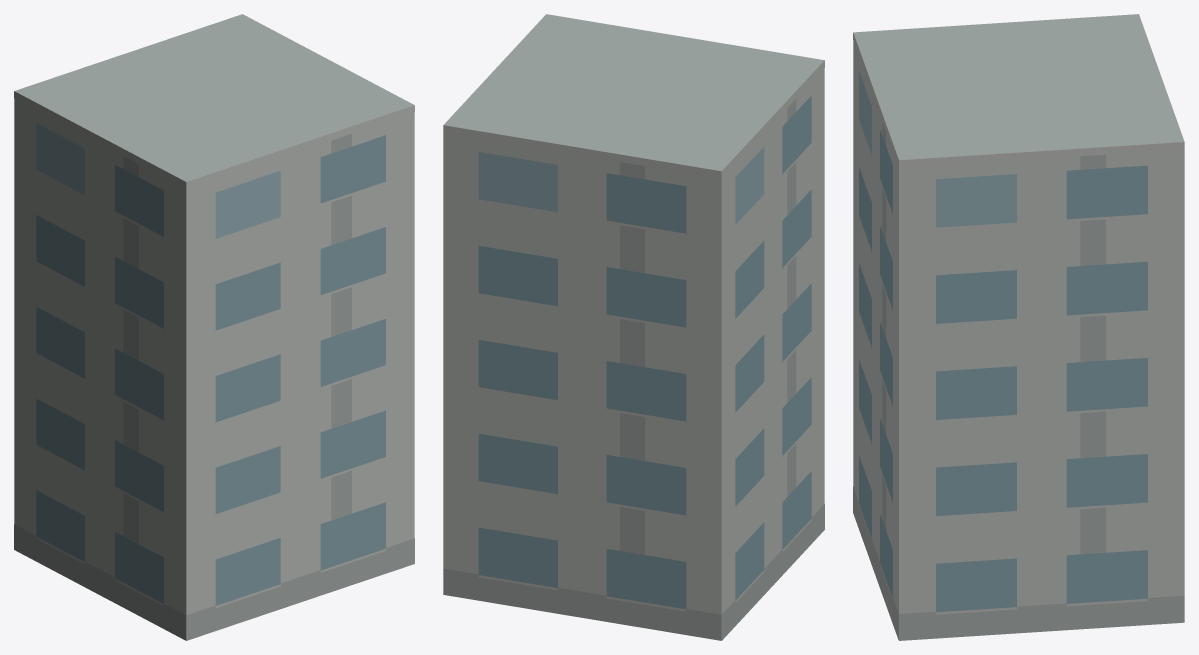
Rendered from residential-cfcf8311-20c1-4b42-907a-9758540b7864.glb.
3 renders of one model, left to right at view 1: azimuth 30°, elevation 25°; view 2: azimuth 150°, elevation 25°; view 3: azimuth 270°, elevation 25°, orthographic. The views are drawn at different scales.
Visible parts, largest first — view 1: residential-cfcf8311-20c1-4b42-907a-9758540b7864.tmp; view 2: residential-cfcf8311-20c1-4b42-907a-9758540b7864.tmp; view 3: residential-cfcf8311-20c1-4b42-907a-9758540b7864.tmp.
Part boxes in pixels (x1,y1,x2,y2): residential-cfcf8311-20c1-4b42-907a-9758540b7864.tmp: (14, 14, 414, 640); residential-cfcf8311-20c1-4b42-907a-9758540b7864.tmp: (443, 14, 824, 640); residential-cfcf8311-20c1-4b42-907a-9758540b7864.tmp: (853, 14, 1184, 640).
Bounding box in the file's own units: 9.96 × 15.25 × 9.54.
